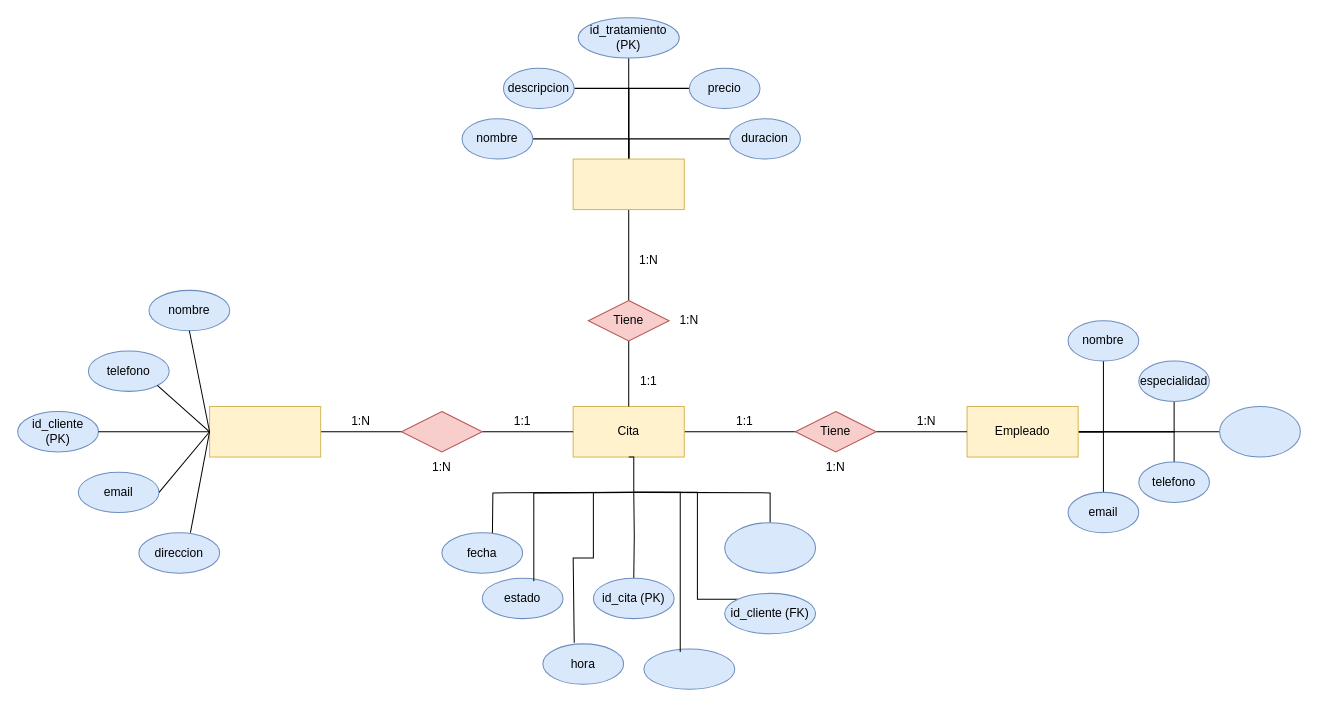
Image size: 1318x707. Some labels were removed from this diagram. Each missing label, with the centre of its shape:
"Cliente" belongs at [265,431].
"id_empleado (Fk)" belongs at [689,668].
"id_empleado (PK)" belongs at [1259,431].
"id_tratamiento (FK)" belongs at [770,547].
"Pide" belongs at [441,431].
"Tratamiento" belongs at [628,184].
